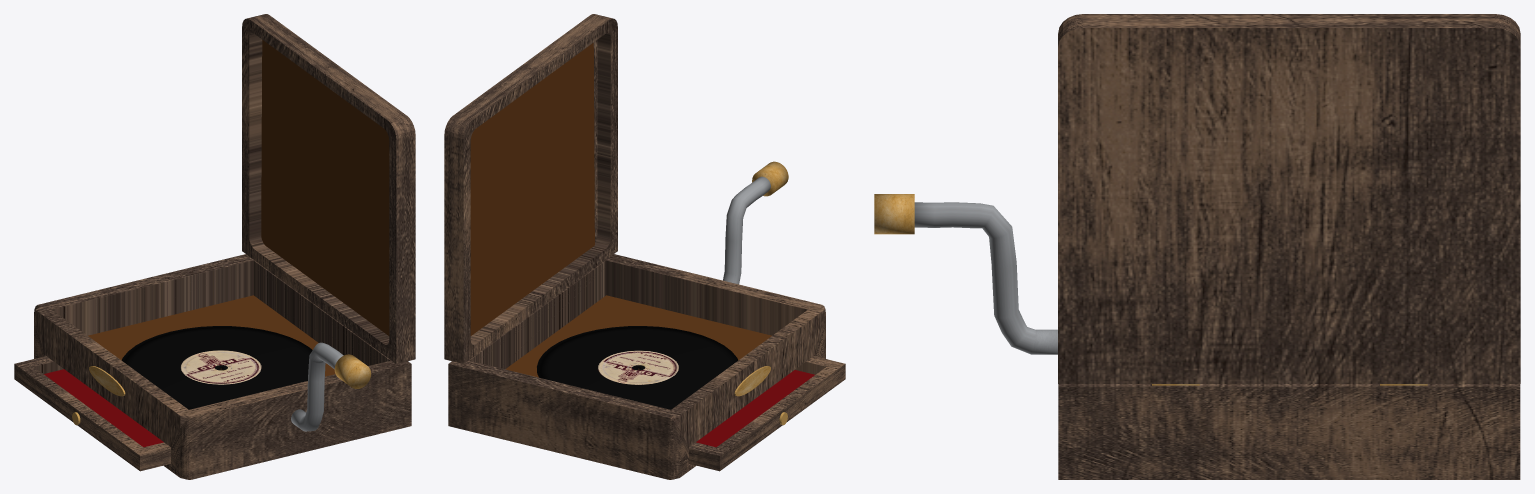
Rendered from 音樂盒.fbx.
The picture shows the model from 3 angles, left to right: view 1: azimuth 30°, elevation 25°; view 2: azimuth 150°, elevation 25°; view 3: azimuth 270°, elevation 25°; orthographic projection. The views are drawn at different scales.
Parts seen in each view (by area): view 1: 音樂盒蓋子, 音樂盒盒子, 唱片, 抽屜, 手把.001; view 2: 音樂盒蓋子, 音樂盒盒子, 唱片, 抽屜, 手把.001; view 3: 音樂盒蓋子, 音樂盒盒子, 手把.001.
Boxes of the visible parts, x1,y1,x2,y2 form: 音樂盒蓋子: (242, 14, 415, 363); 音樂盒盒子: (34, 254, 411, 479); 唱片: (121, 326, 312, 409); 抽屜: (14, 356, 170, 471); 手把.001: (291, 342, 371, 431); 音樂盒蓋子: (444, 14, 617, 363); 音樂盒盒子: (448, 254, 825, 479); 唱片: (537, 326, 738, 409); 抽屜: (689, 356, 845, 471); 手把.001: (723, 161, 788, 284); 音樂盒蓋子: (1058, 14, 1520, 383); 音樂盒盒子: (1058, 384, 1520, 479); 手把.001: (874, 194, 1057, 354).
Size of the model in its own units: 386 by 425 by 547.
13 materials, 10 textured.
